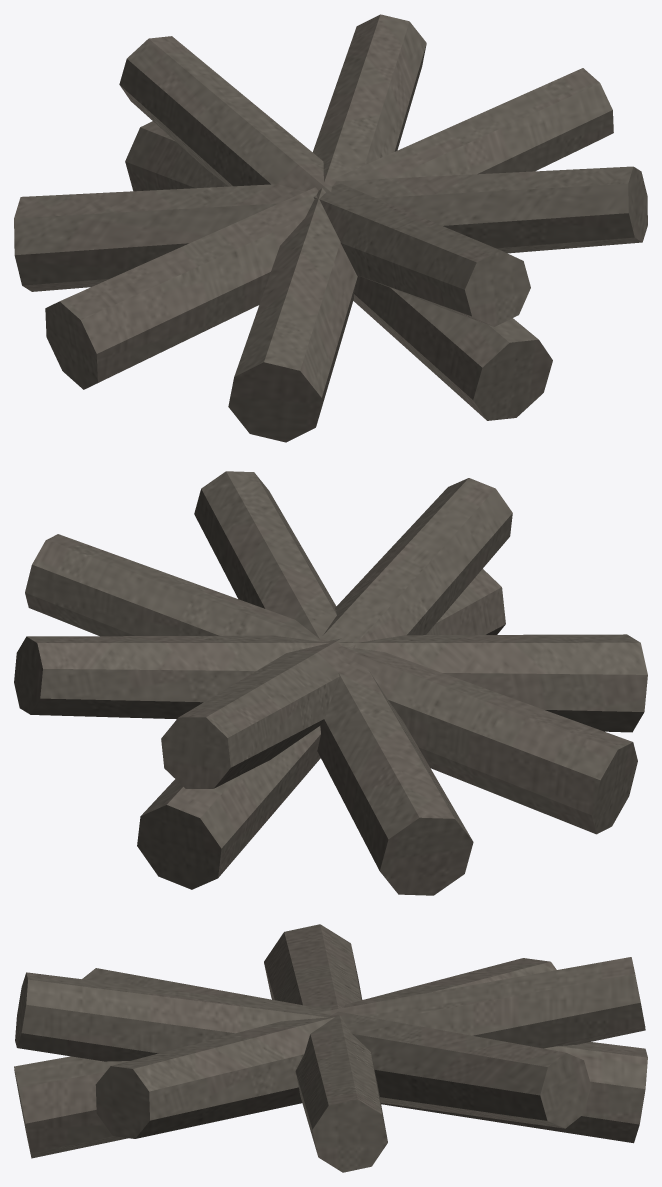
File: prop_bone_pile.glb
3 views of the same model, one above another, from view 1: azimuth 30°, elevation 25°; view 2: azimuth 150°, elevation 25°; view 3: azimuth 270°, elevation 25° (orthographic). The views are drawn at different scales.
Parts seen in each view (by area): view 1: PROP_BonePile; view 2: PROP_BonePile; view 3: PROP_BonePile.
Boxes of the visible parts, x1,y1,x2,y2 form: PROP_BonePile: (14, 14, 647, 442); PROP_BonePile: (14, 471, 647, 895); PROP_BonePile: (14, 924, 647, 1172).
Bounding box in the file's own units: 0.6554 × 0.1952 × 0.6569.
Materials: 1 (1 with a texture image).
